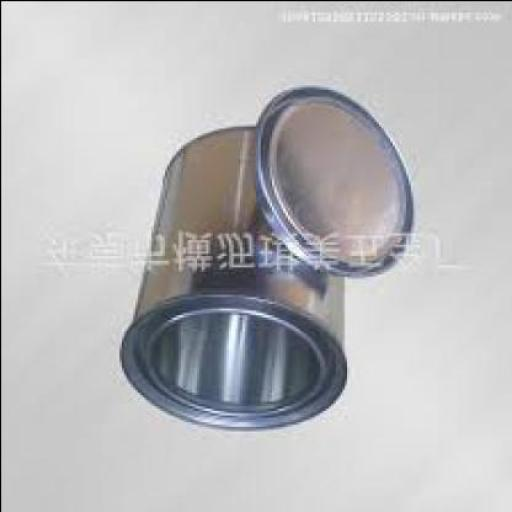metal: (116, 128, 342, 432), (250, 87, 410, 280)
